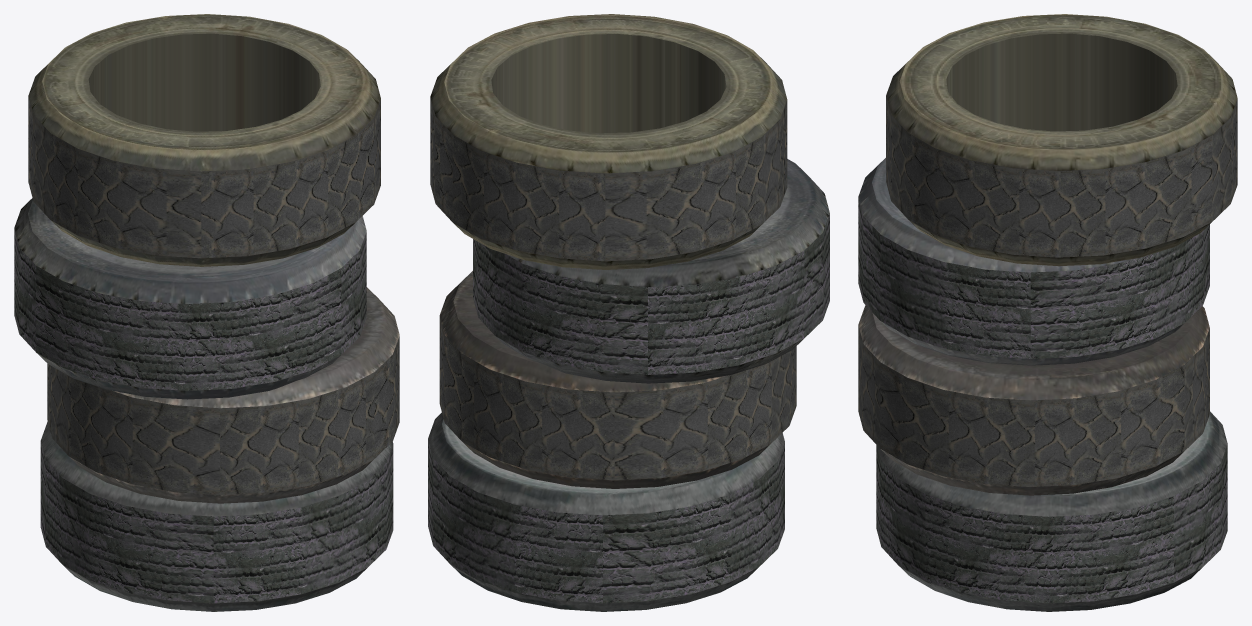
The model's file is Tyres.gltf.
3 renders of one model, left to right at view 1: azimuth 30°, elevation 25°; view 2: azimuth 150°, elevation 25°; view 3: azimuth 270°, elevation 25°, orthographic.
Visible parts, largest first — view 1: node1; view 2: node1; view 3: node1.
Part boxes in pixels (x1,y1,x2,y2): node1: (14, 14, 399, 611); node1: (428, 14, 829, 611); node1: (858, 14, 1237, 611).
Size of the model in its own units: 0.7972 by 1.03 by 0.7706.
